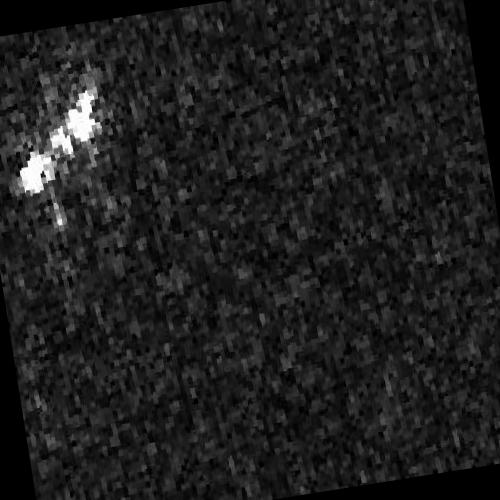ship: (20, 85, 97, 198)
